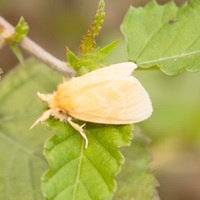insect: (30, 62, 152, 147)
